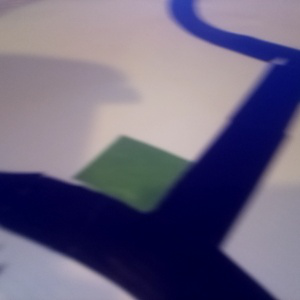top_left: (46, 109, 219, 250)
